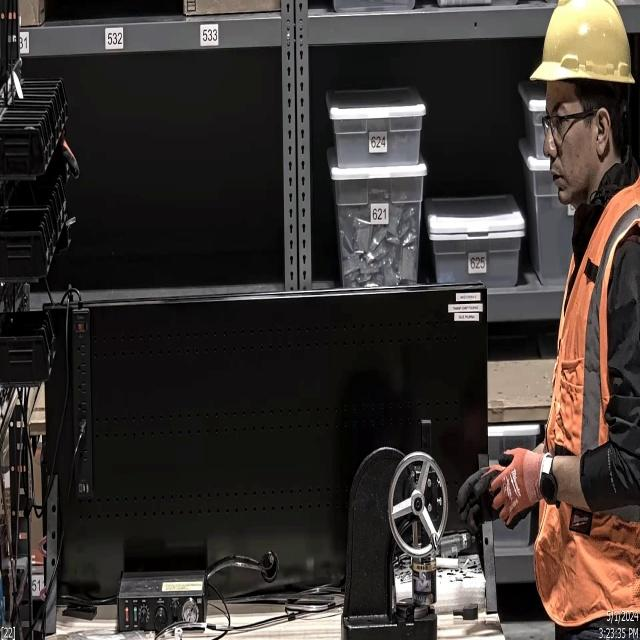construction-gloves: (483, 446, 543, 528)
